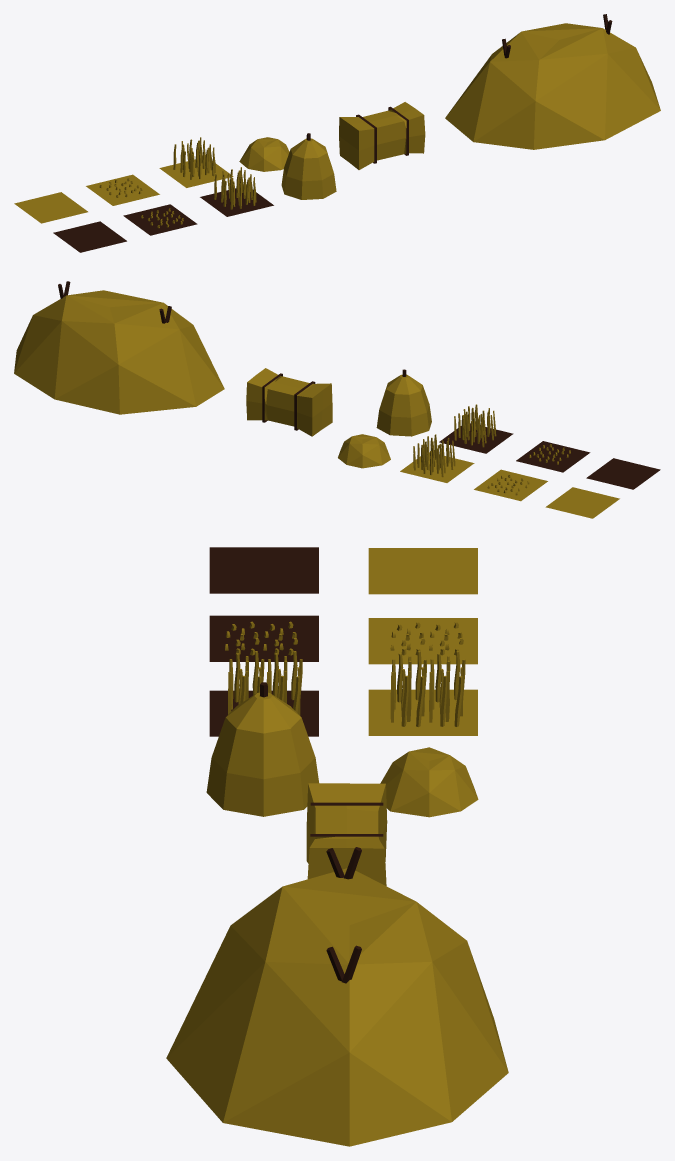
File: Low poly hay pack.fbx
3 views of the same model, one above another, from view 1: azimuth 30°, elevation 25°; view 2: azimuth 150°, elevation 25°; view 3: azimuth 270°, elevation 25° (orthographic). The views are drawn at different scales.
Visible parts, largest first — view 1: GeoSphere002, Box001, Cylinder002, GeoSphere001, Plane004, Plane003, Plane005, Plane002, Plane001, Plane006; view 2: GeoSphere002, Box001, Cylinder002, GeoSphere001, Plane003, Plane004, Plane005, Plane002, Plane006, Plane001; view 3: GeoSphere002, Cylinder002, Box001, Plane004, Plane003, GeoSphere001, Plane005, Plane002, Plane001, Plane006.
Boxes of the visible parts, <box> form: GeoSphere002: <box>445,23,660,149</box>; Box001: <box>339,102,425,169</box>; Cylinder002: <box>281,138,336,199</box>; GeoSphere001: <box>239,137,289,171</box>; Plane004: <box>53,221,126,252</box>; Plane003: <box>14,192,87,223</box>; Plane005: <box>123,204,197,235</box>; Plane002: <box>86,174,159,205</box>; Plane001: <box>159,159,233,187</box>; Plane006: <box>200,188,273,216</box>; GeoSphere002: <box>14,290,224,414</box>; Box001: <box>246,368,332,436</box>; Cylinder002: <box>376,374,431,436</box>; GeoSphere001: <box>338,434,390,468</box>; Plane003: <box>545,487,619,518</box>; Plane004: <box>586,458,660,489</box>; Plane005: <box>516,441,590,472</box>; Plane002: <box>474,469,547,501</box>; Plane006: <box>439,423,513,453</box>; Plane001: <box>400,452,474,482</box>; GeoSphere002: <box>166,868,508,1146</box>; Cylinder002: <box>206,692,318,816</box>; Box001: <box>306,783,387,885</box>; Plane004: <box>209,547,318,593</box>; Plane003: <box>368,548,477,594</box>; GeoSphere001: <box>380,747,478,817</box>; Plane005: <box>209,615,318,661</box>; Plane002: <box>368,618,477,664</box>; Plane001: <box>368,689,477,735</box>; Plane006: <box>209,690,318,736</box>.
Size of the model in its own units: 692 by 92.11 by 169.
